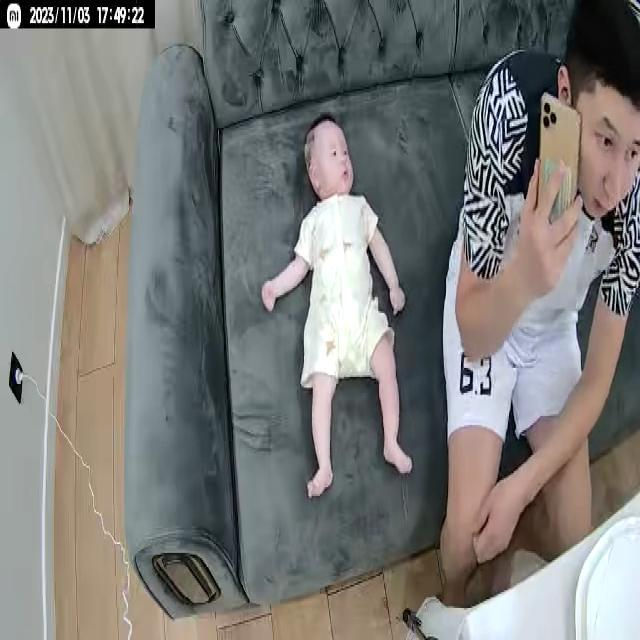baby: (257, 113, 415, 507)
